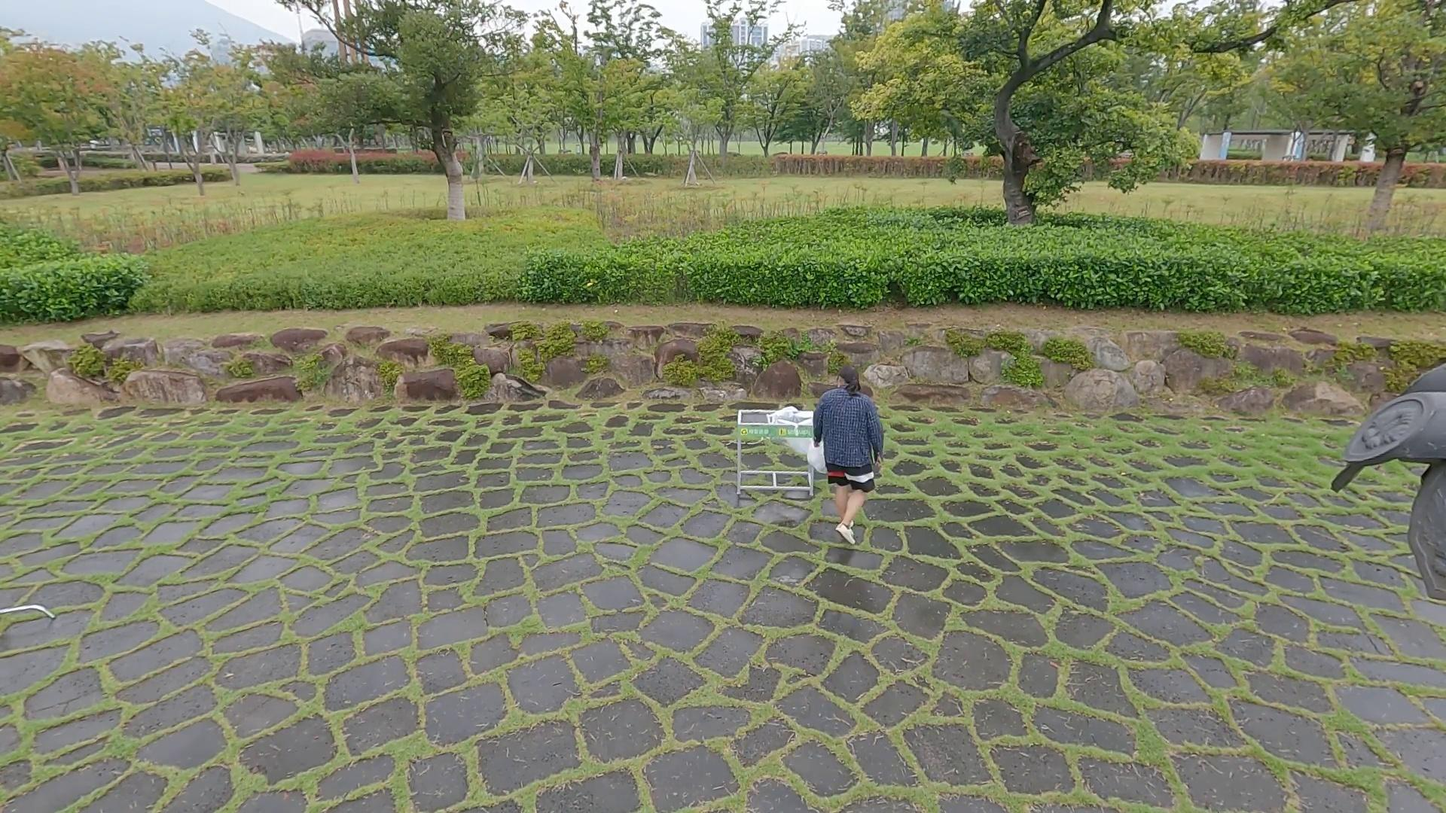person: (810, 364, 890, 551)
trash: (802, 442, 831, 483)
